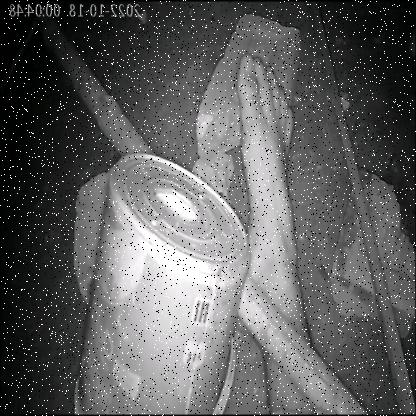leg: (193, 29, 366, 416)
